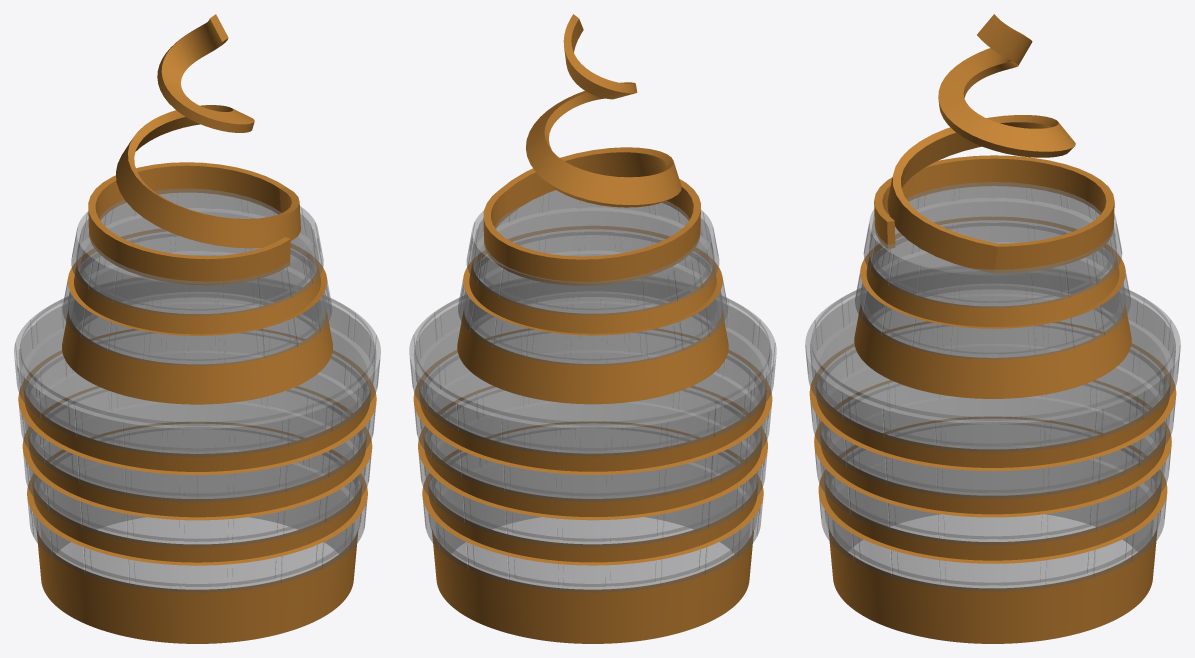
Rendered from st-james-centre-v2.gltf.
3 views of the same model, side by side, from view 1: azimuth 30°, elevation 25°; view 2: azimuth 150°, elevation 25°; view 3: azimuth 270°, elevation 25° (orthographic). The views are drawn at different scales.
Parts seen in each view (by area): view 1: St James Centre - Main Body.stl#1, St James Centre; view 2: St James Centre - Main Body.stl#1, St James Centre; view 3: St James Centre - Main Body.stl#1, St James Centre.
Part boxes in pixels (box(x1,y1,x2,y2)): St James Centre - Main Body.stl#1: box(14, 188, 380, 643); St James Centre: box(88, 14, 300, 285); St James Centre - Main Body.stl#1: box(409, 190, 776, 643); St James Centre: box(483, 14, 700, 285); St James Centre - Main Body.stl#1: box(805, 182, 1180, 643); St James Centre: box(874, 14, 1114, 273).
Size of the model in its own units: 0.176 by 0.2957 by 0.176.
